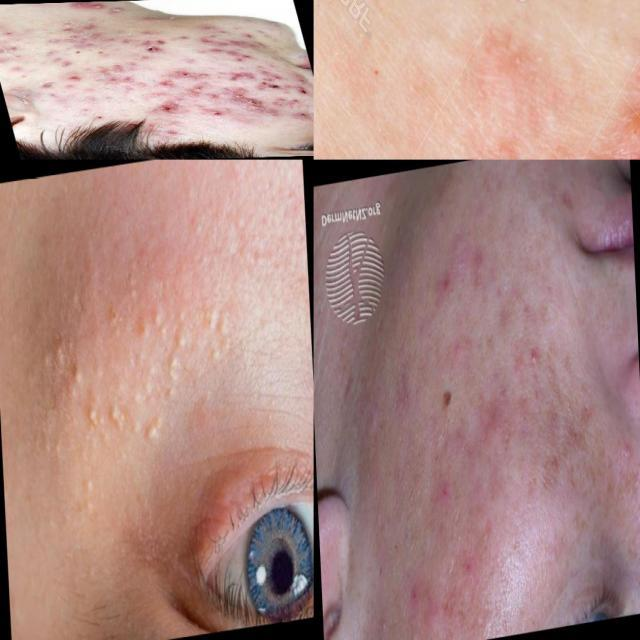Pimples: (405, 563, 443, 640), (144, 296, 192, 352), (128, 359, 167, 407), (218, 90, 282, 116), (467, 233, 493, 293), (76, 58, 138, 83), (38, 338, 69, 380), (200, 300, 230, 342), (188, 36, 276, 50), (208, 332, 238, 370), (614, 426, 640, 468), (124, 412, 152, 450), (202, 48, 264, 65), (432, 264, 460, 301), (67, 360, 93, 399), (142, 408, 170, 443), (107, 400, 130, 442), (216, 66, 268, 83), (61, 32, 110, 50), (164, 354, 185, 392), (138, 37, 180, 55), (84, 398, 105, 433), (161, 382, 182, 410), (78, 470, 96, 500), (68, 284, 86, 312), (82, 1, 115, 10), (206, 106, 224, 118)
